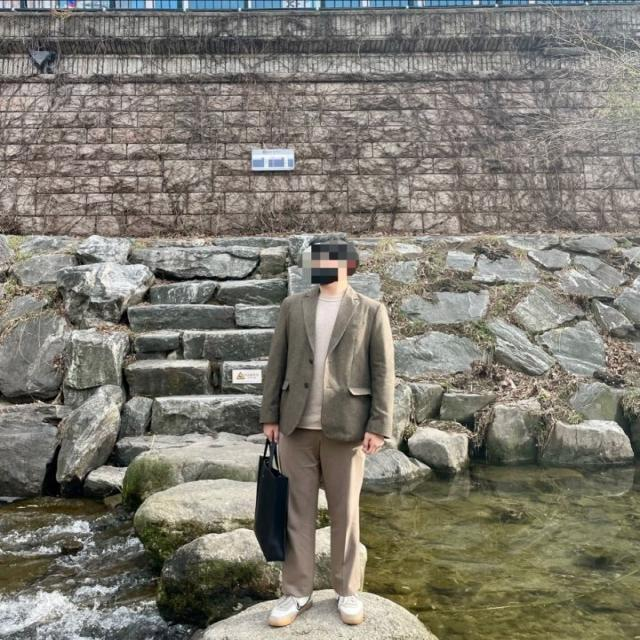blazer: (258, 290, 397, 441)
slacks: (274, 419, 367, 596)
